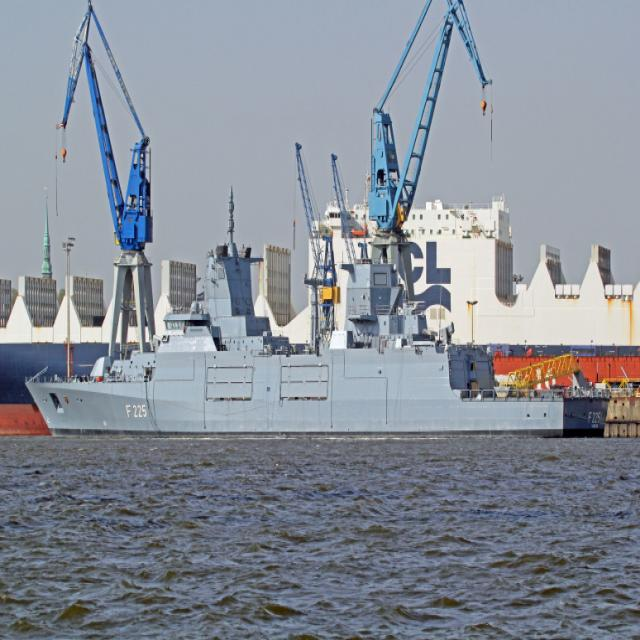Fragata: (23, 239, 614, 444)
